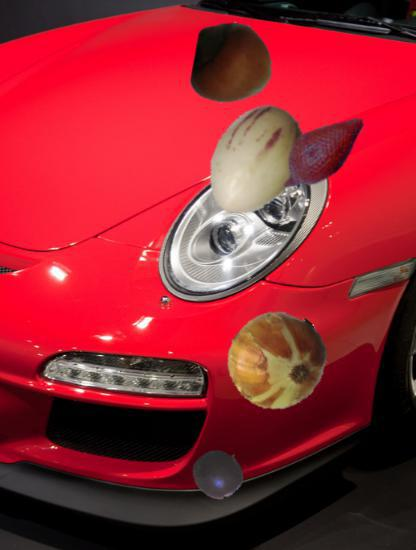Nut: (192, 22, 275, 105)
Onion: (225, 309, 328, 412)
Passion: (193, 449, 245, 501)
Pepino: (200, 103, 319, 222)
Salak: (269, 99, 374, 204)
